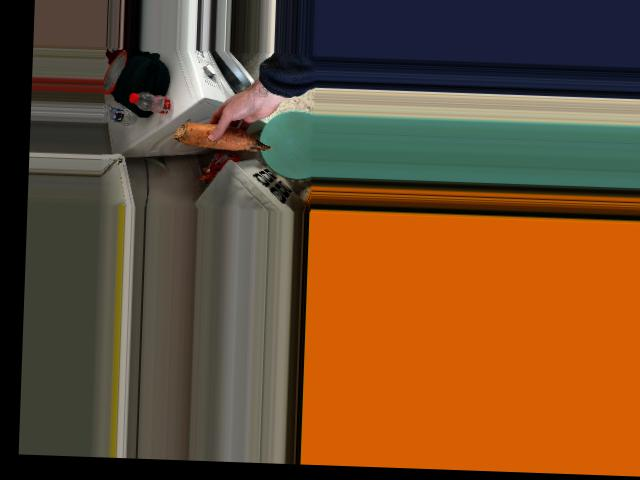sweet_potato: (170, 115, 273, 153)
